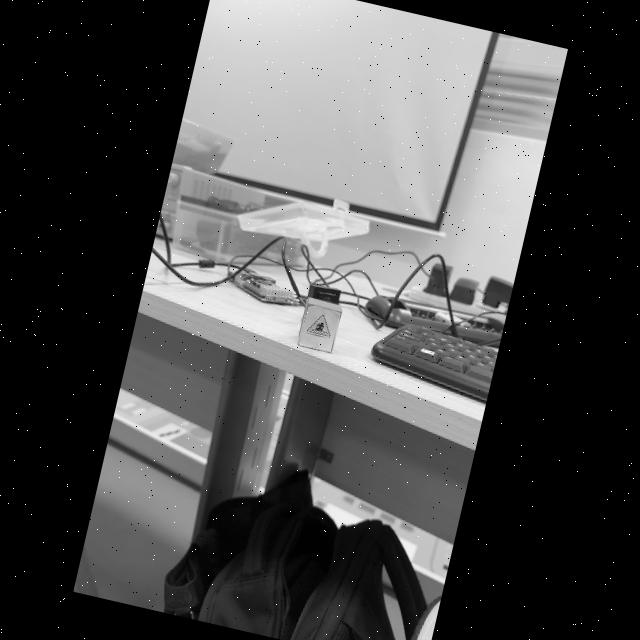Tsunami: (307, 316, 330, 338)
